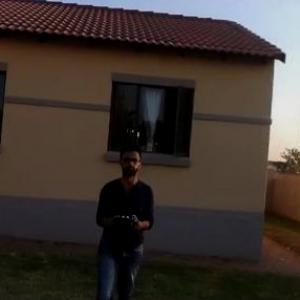follow: (91, 136, 160, 299)
